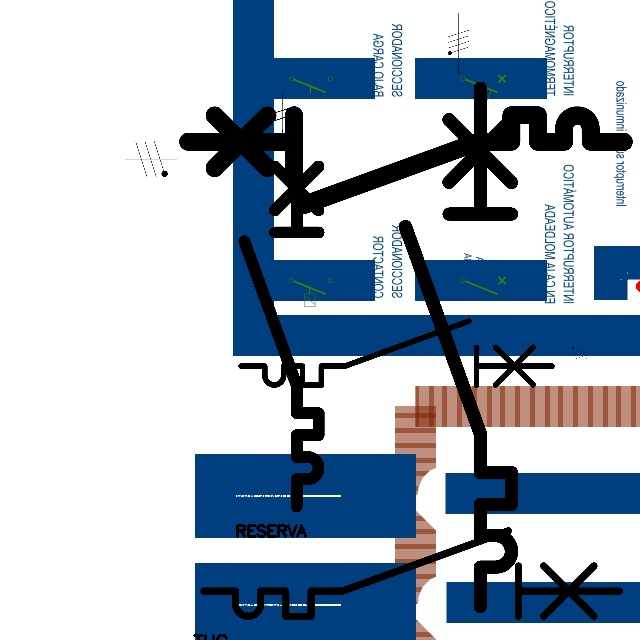interruptor_termomagnetico: (392, 74, 525, 619), (176, 104, 634, 216), (193, 520, 629, 627), (235, 135, 328, 516), (233, 313, 560, 393)
